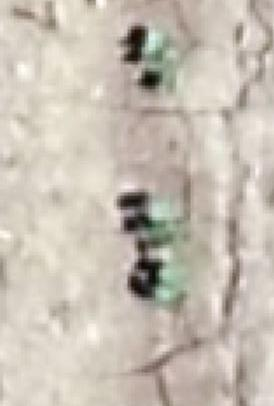cotton: (147, 198, 179, 238), (158, 269, 181, 301), (145, 35, 171, 58)
